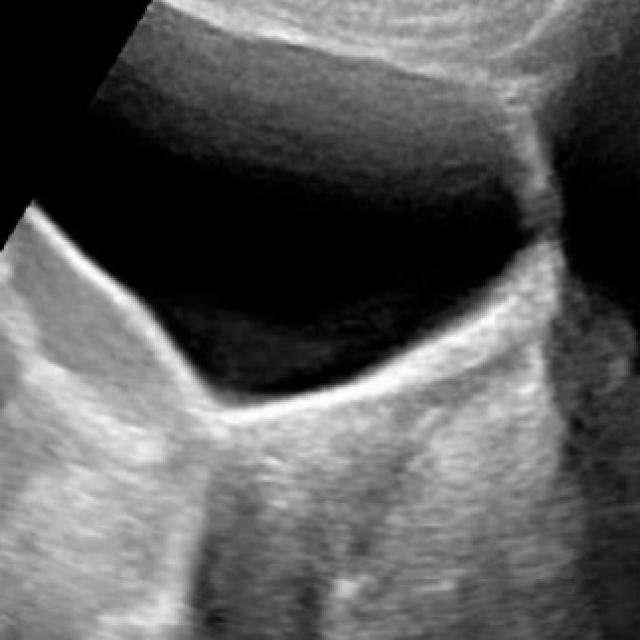bladder: (19, 5, 538, 454)
